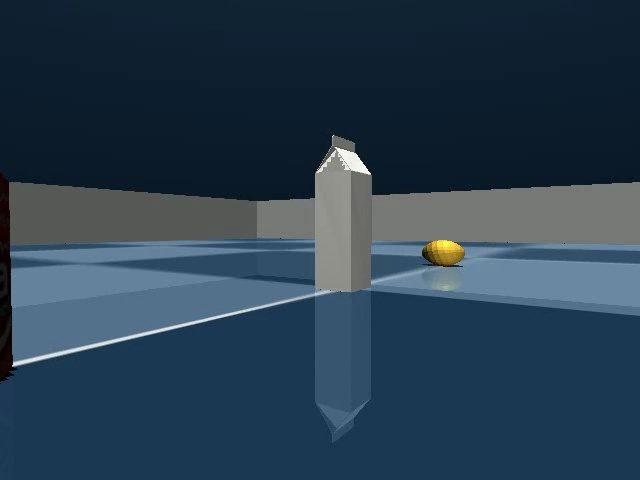lemon: (416, 235, 471, 272)
milk: (306, 129, 382, 300)
